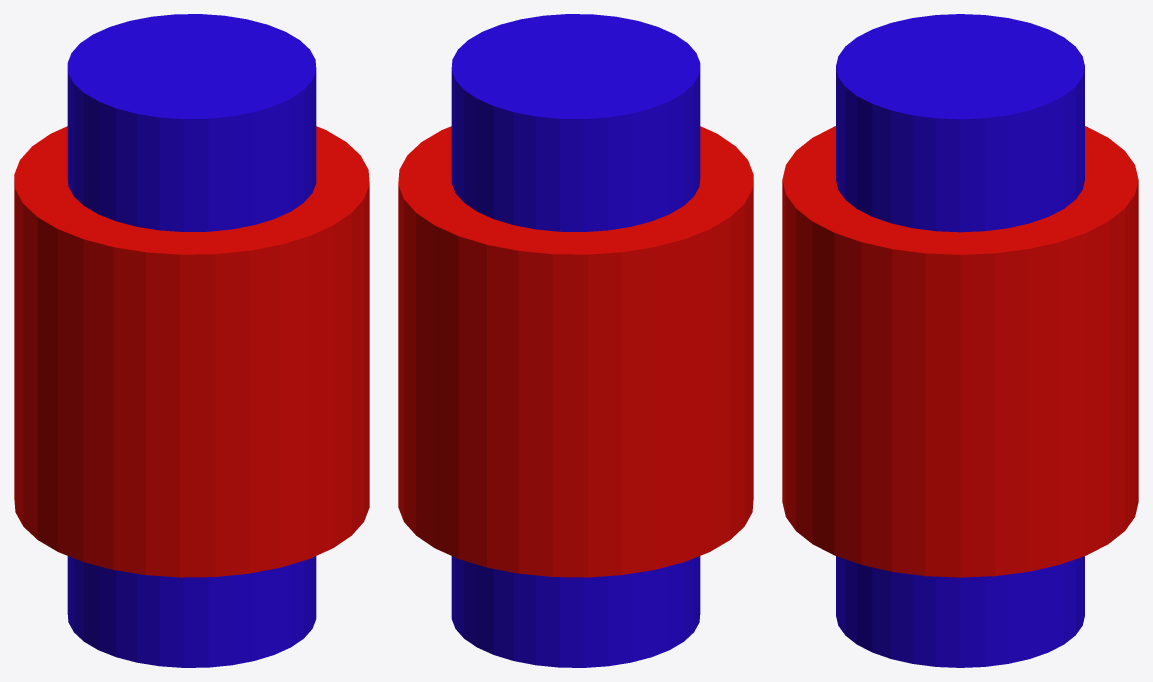
The model's file is translate.gltf.
The picture shows the model from 3 angles, left to right: view 1: azimuth 30°, elevation 25°; view 2: azimuth 150°, elevation 25°; view 3: azimuth 270°, elevation 25°; orthographic projection.
Parts seen in each view (by area): view 1: Cylinder, Cylinder.001; view 2: Cylinder, Cylinder.001; view 3: Cylinder, Cylinder.001.
Part boxes in pixels (box(x1,y1,x2,y2)): Cylinder: box(14, 126, 369, 577); Cylinder.001: box(67, 14, 316, 667); Cylinder: box(398, 126, 753, 577); Cylinder.001: box(451, 14, 700, 667); Cylinder: box(782, 126, 1138, 577); Cylinder.001: box(836, 14, 1084, 667).
Size of the model in its own units: 2 by 3.4 by 2.
